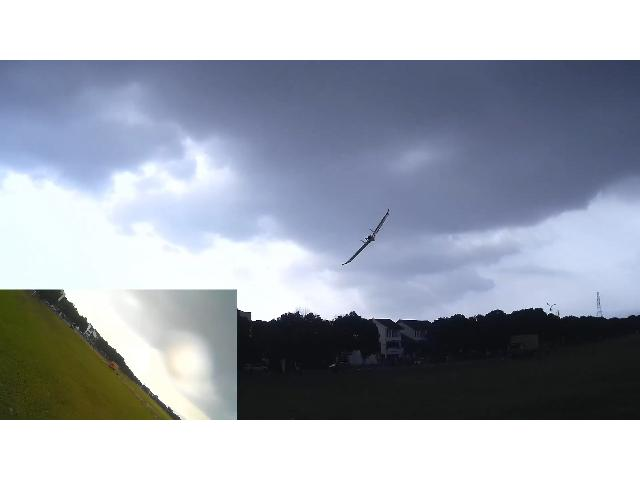Anti-Drone: (342, 207, 391, 265)
